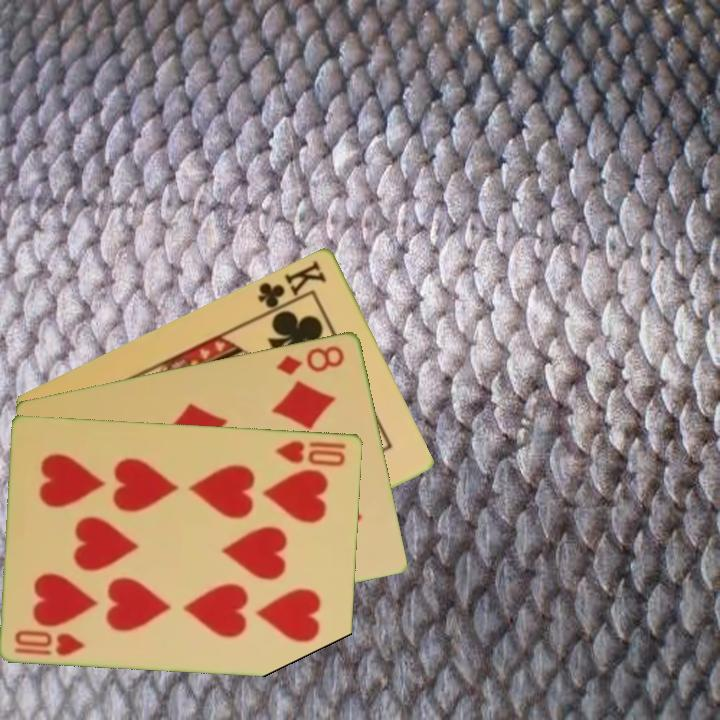10h: (11, 626, 89, 658), (272, 437, 349, 469)
8d: (273, 341, 348, 378)
Kc: (254, 256, 330, 318)
